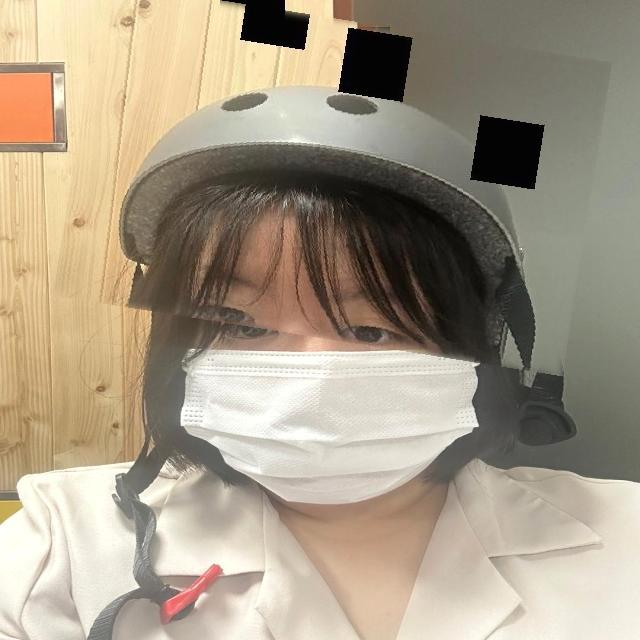helmet: (64, 1, 602, 357)
